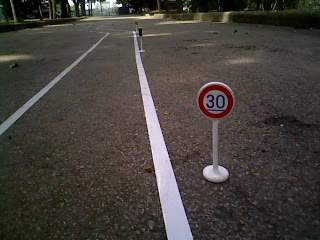limit 30: (196, 82, 235, 120)
